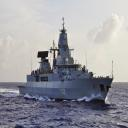Fragata: (1, 15, 76, 105)
